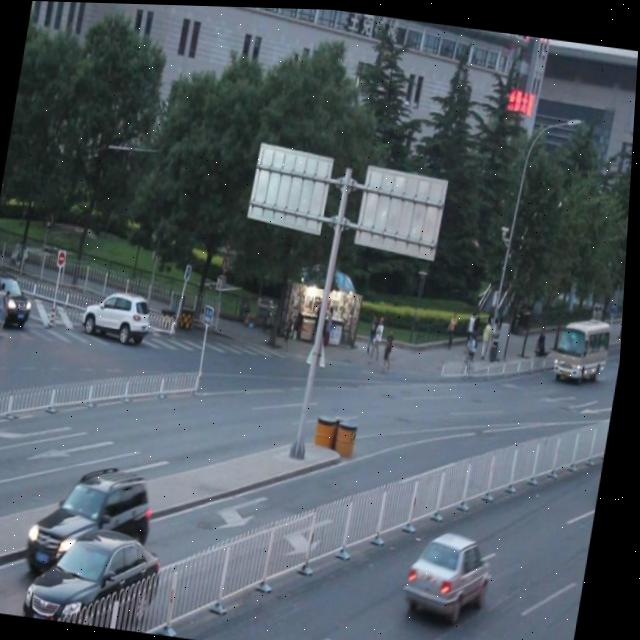car: (29, 457, 167, 580), (29, 518, 173, 632), (408, 524, 502, 617), (81, 287, 158, 349), (0, 262, 41, 325), (0, 585, 1, 612)
truck: (552, 309, 616, 381)
